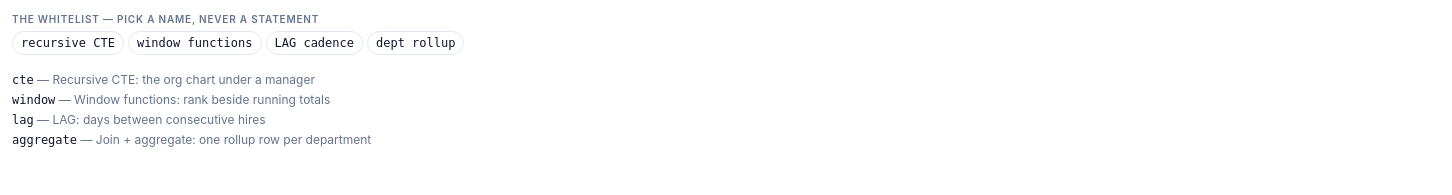
Test case: SqlLabDemo › renders the error panel when the query fails
Expected: the list with test id "lab-catalog" is shown, top-left (12, 72), bottom-right (371, 147)
Click the button with test id "lab-run-window" at (195, 43), box top-left (128, 31), bottom-right (262, 55)
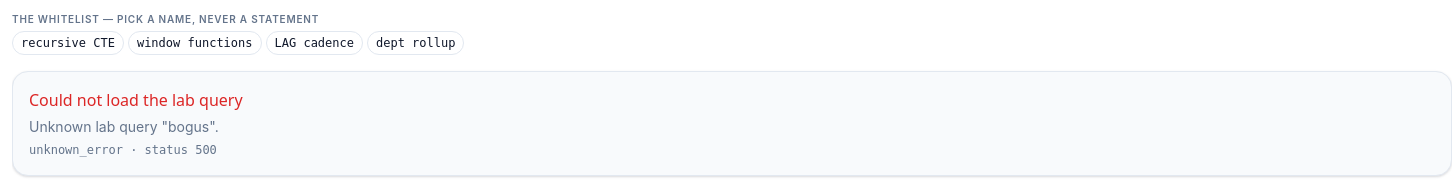
Expected: the text "Unknown lab query" is shown, top-left (29, 118), bottom-right (219, 135)
